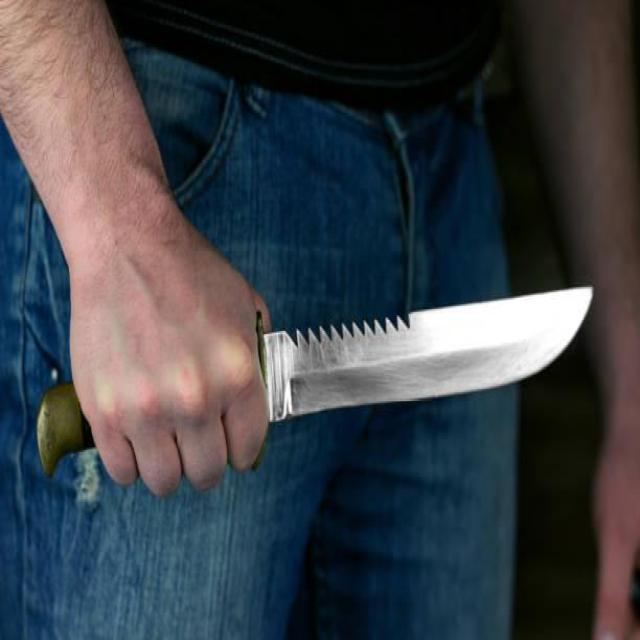faca: (21, 268, 595, 496)
